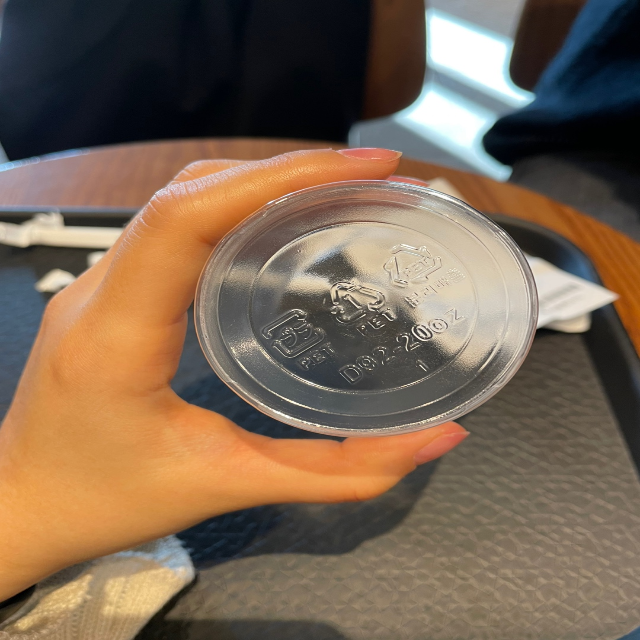pet: (384, 237, 469, 309), (254, 306, 339, 370), (325, 279, 397, 335)
